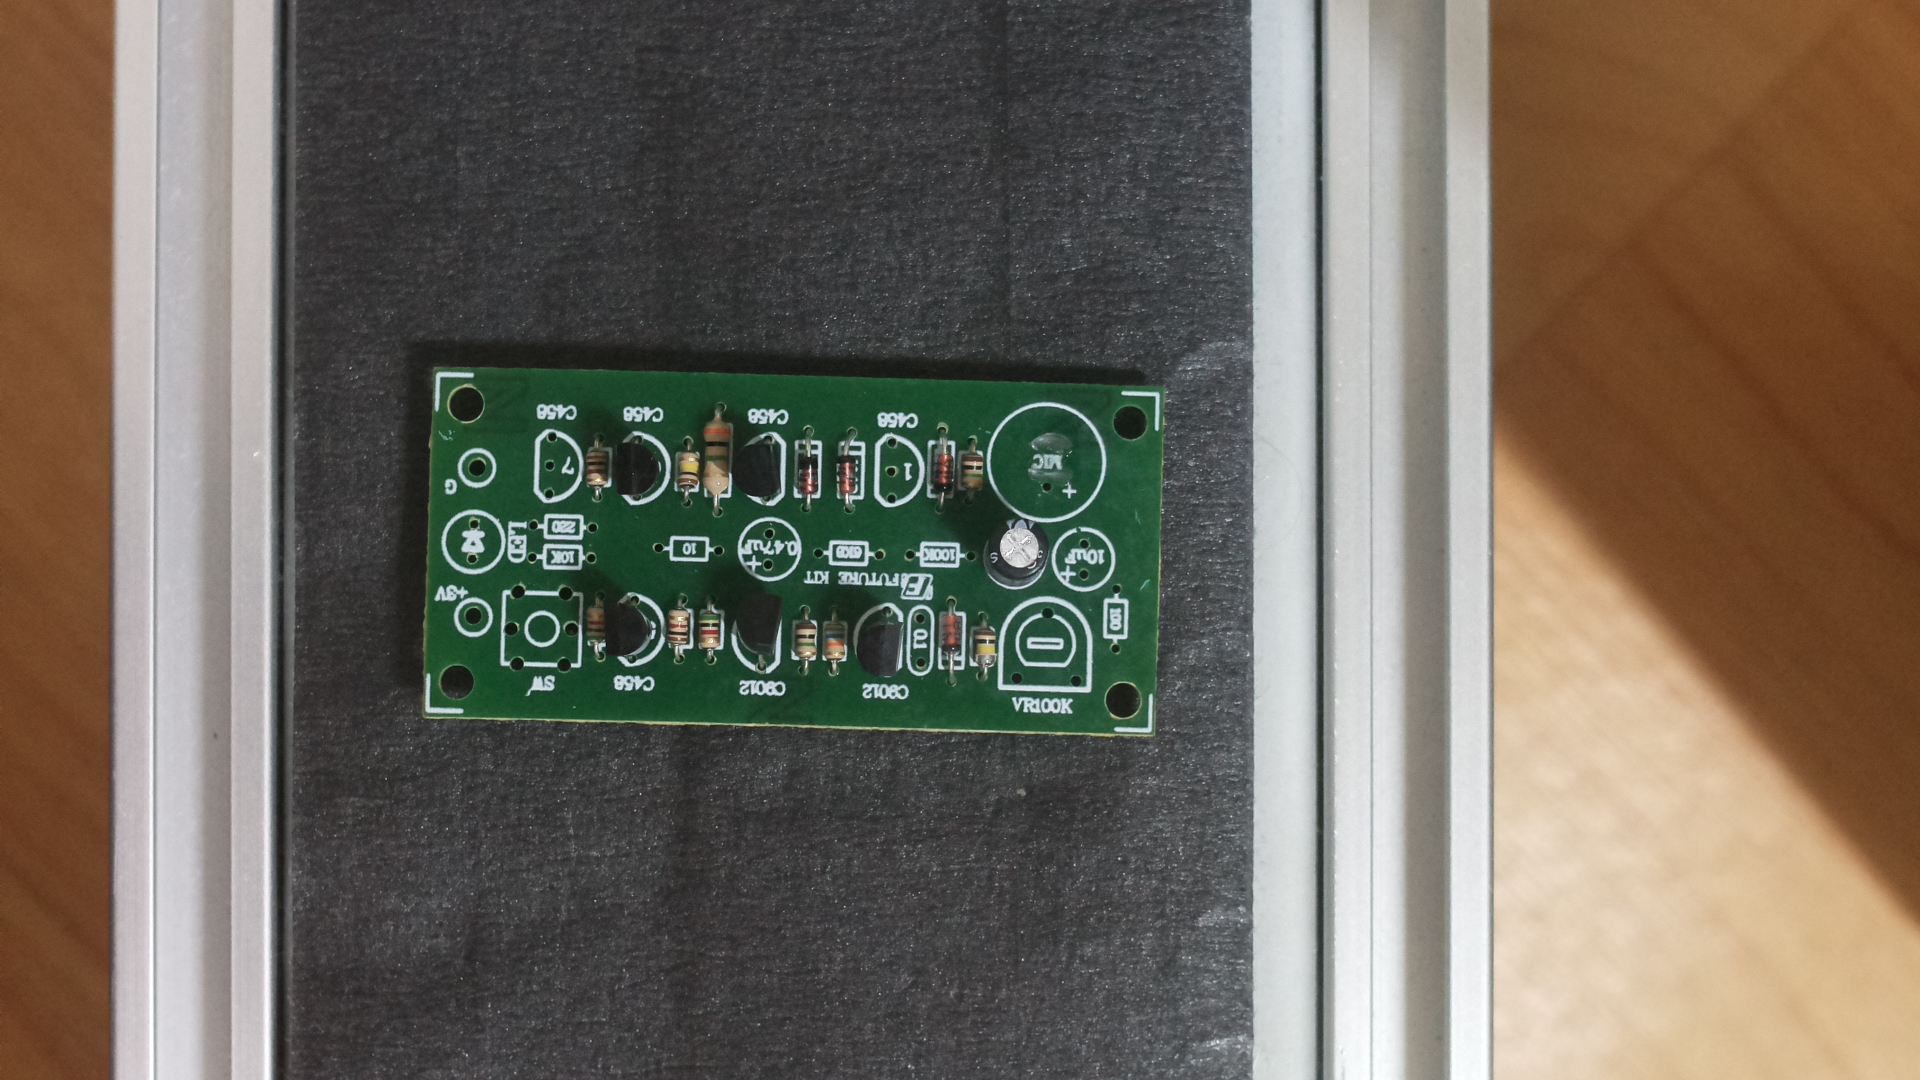A_Missing_part: (410, 343, 1179, 771)
